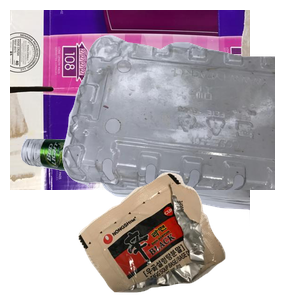cardboard: (10, 10, 250, 190)
glass: (18, 124, 258, 300)
plastic: (60, 32, 300, 212)
trash: (76, 170, 300, 300)
